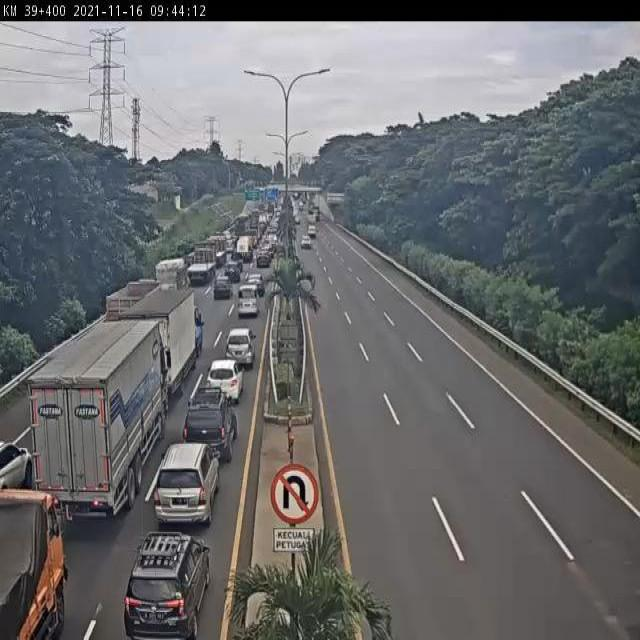car: (119, 522, 212, 638), (147, 439, 228, 525), (189, 374, 236, 454), (0, 441, 35, 499), (209, 353, 247, 403), (227, 324, 258, 373), (235, 282, 266, 322), (215, 274, 233, 302), (301, 232, 314, 253), (308, 223, 318, 237)
truck-l-: (24, 324, 175, 523), (187, 240, 218, 283)
truck-m-: (0, 473, 68, 640), (126, 290, 205, 386), (108, 276, 161, 316), (155, 259, 187, 304)
